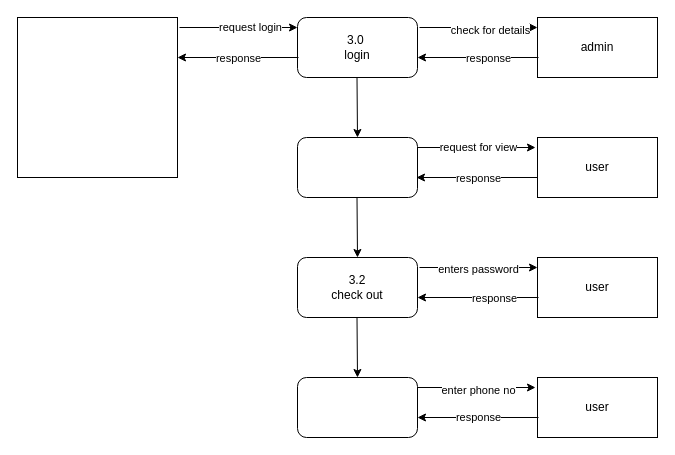
The diagram is 675 pixels wide and 455 high, and some of its shapes have lost their labels. Each missing label, with the centre of its shape:
2 User: [97,97]
3.1 view menu: [357,167]
3.3 make payment: [357,407]
